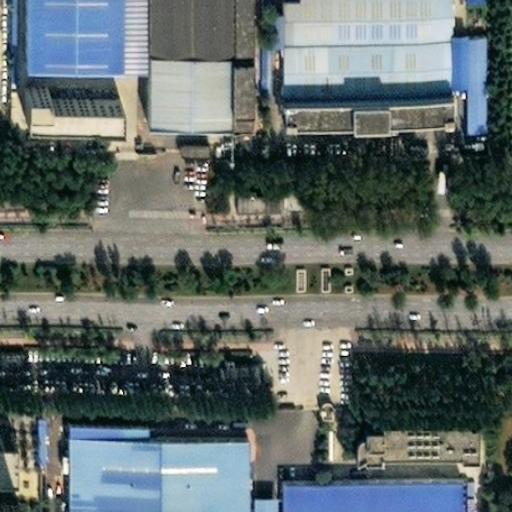building: (48, 412, 235, 512), (131, 0, 230, 114), (268, 467, 452, 512), (11, 0, 131, 56), (267, 83, 443, 113), (339, 403, 462, 429), (15, 77, 110, 107), (458, 30, 479, 122), (234, 189, 284, 211), (235, 484, 268, 512), (442, 26, 458, 79), (0, 446, 15, 490), (178, 139, 210, 155)
